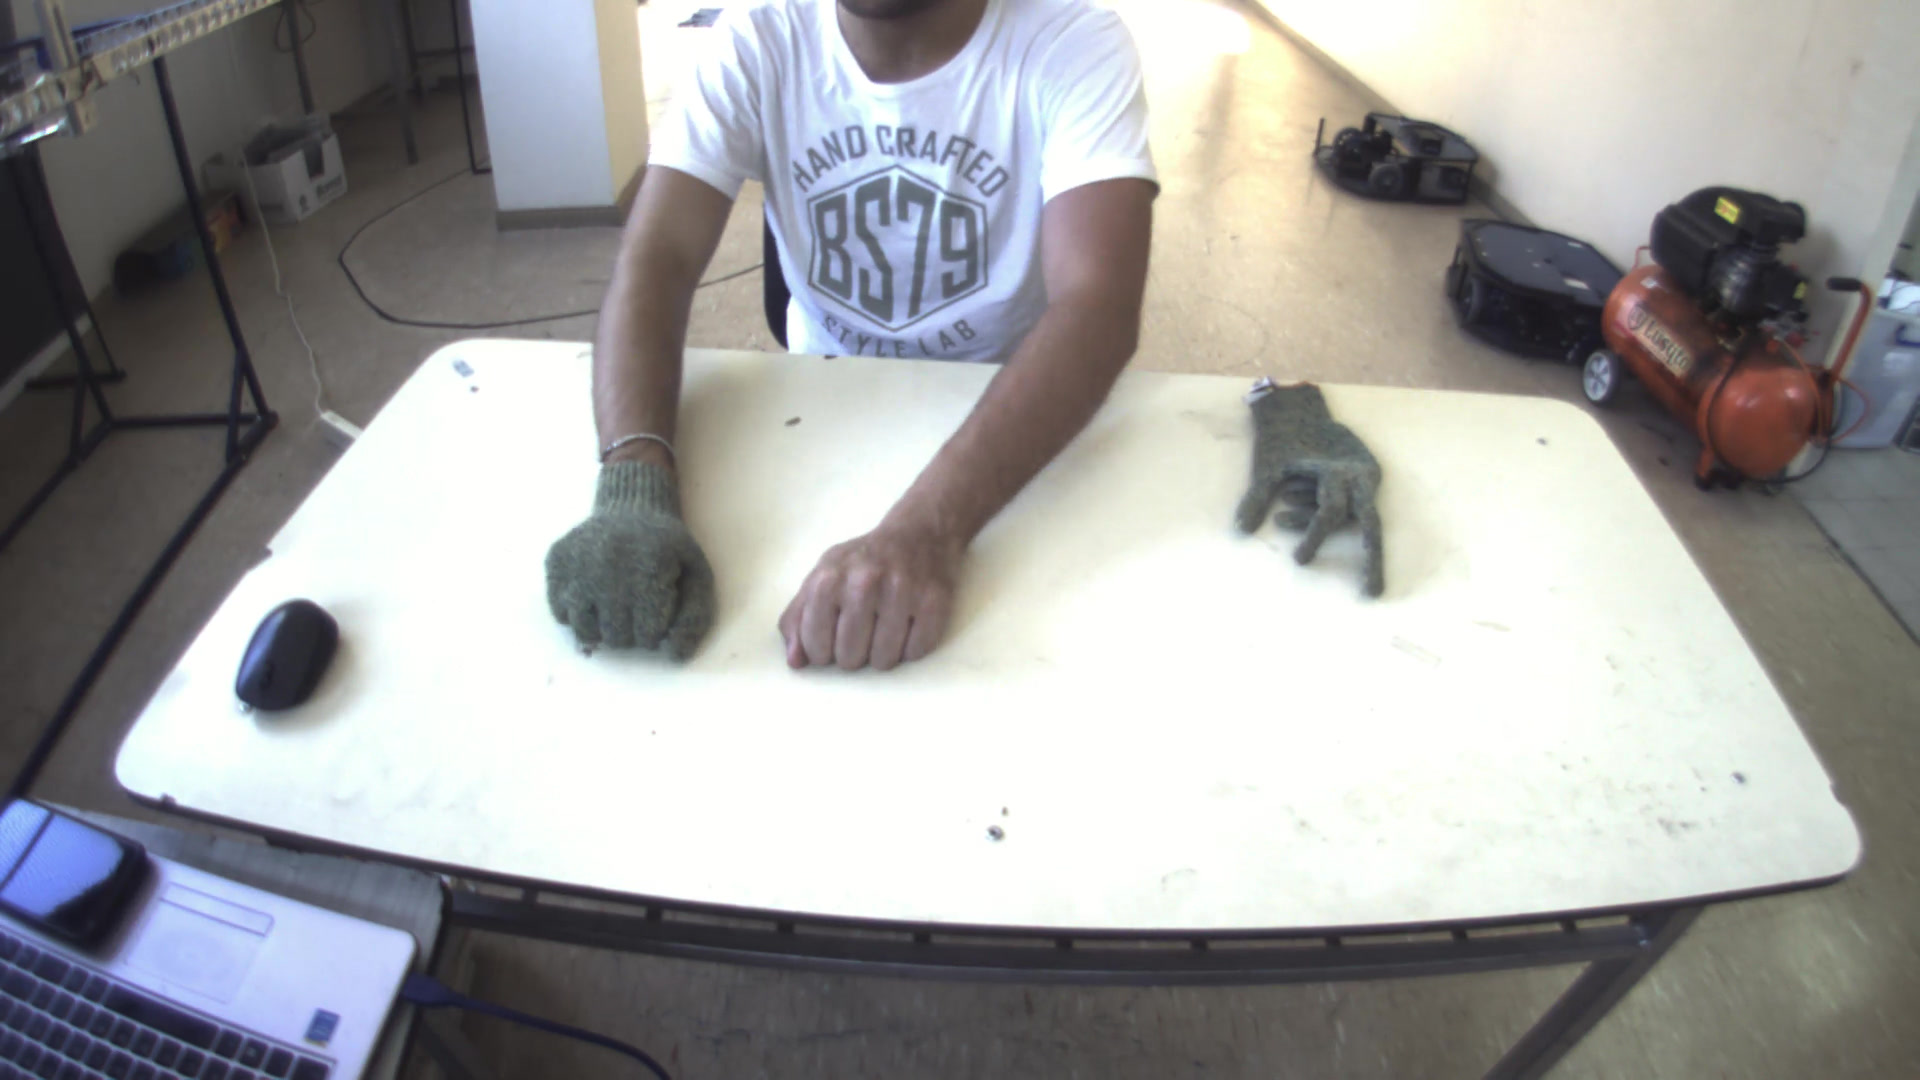hand: (534, 431, 717, 669), (775, 492, 969, 673)
